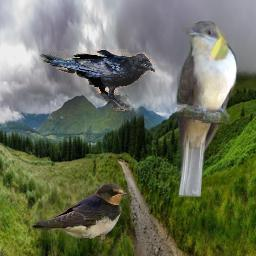Crow: (39, 49, 156, 111)
Cuckoo: (173, 21, 237, 197)
Swallow: (31, 182, 127, 243)
